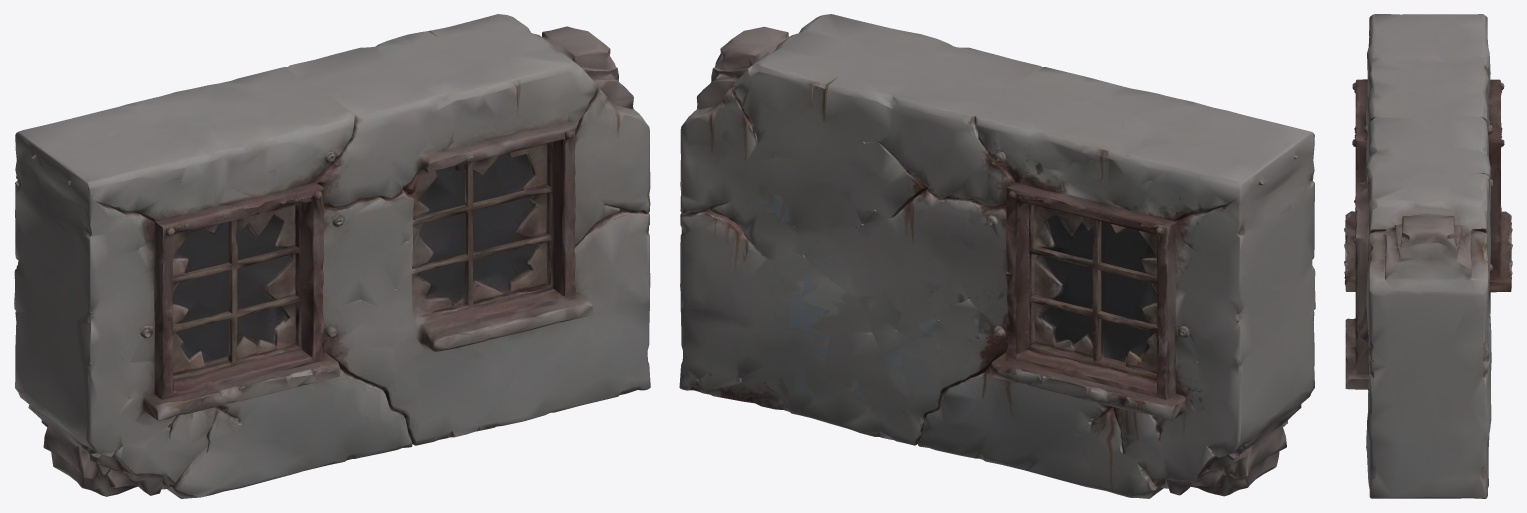
Rendered from facade_plaster_window_damaged_idle.glb.
The picture shows the model from 3 angles, left to right: view 1: azimuth 30°, elevation 25°; view 2: azimuth 150°, elevation 25°; view 3: azimuth 270°, elevation 25°; orthographic projection. The views are drawn at different scales.
Visible parts, largest first — view 1: tripo_node_ce466c48-99ae-4bf4-99f7-d86de3990f68; view 2: tripo_node_ce466c48-99ae-4bf4-99f7-d86de3990f68; view 3: tripo_node_ce466c48-99ae-4bf4-99f7-d86de3990f68.
Part boxes in pixels (box(x1,y1,x2,y2)): tripo_node_ce466c48-99ae-4bf4-99f7-d86de3990f68: box(14, 14, 650, 498); tripo_node_ce466c48-99ae-4bf4-99f7-d86de3990f68: box(679, 14, 1315, 498); tripo_node_ce466c48-99ae-4bf4-99f7-d86de3990f68: box(1344, 14, 1512, 498).
Size of the model in its own units: 3 by 1.74 by 0.9845.
Materials: 1 (1 with a texture image).
